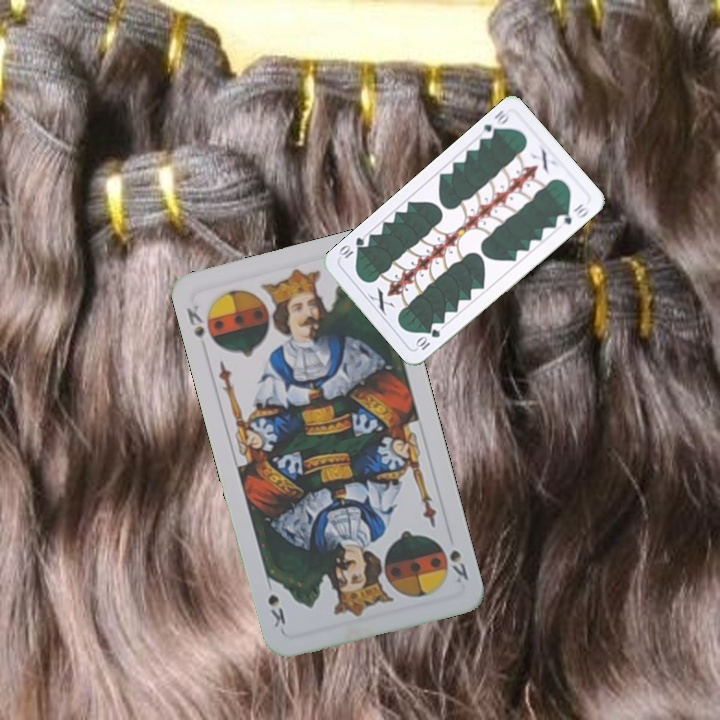G10: (478, 106, 513, 142), (412, 325, 443, 353)
SK: (182, 301, 219, 355), (445, 545, 471, 586)
